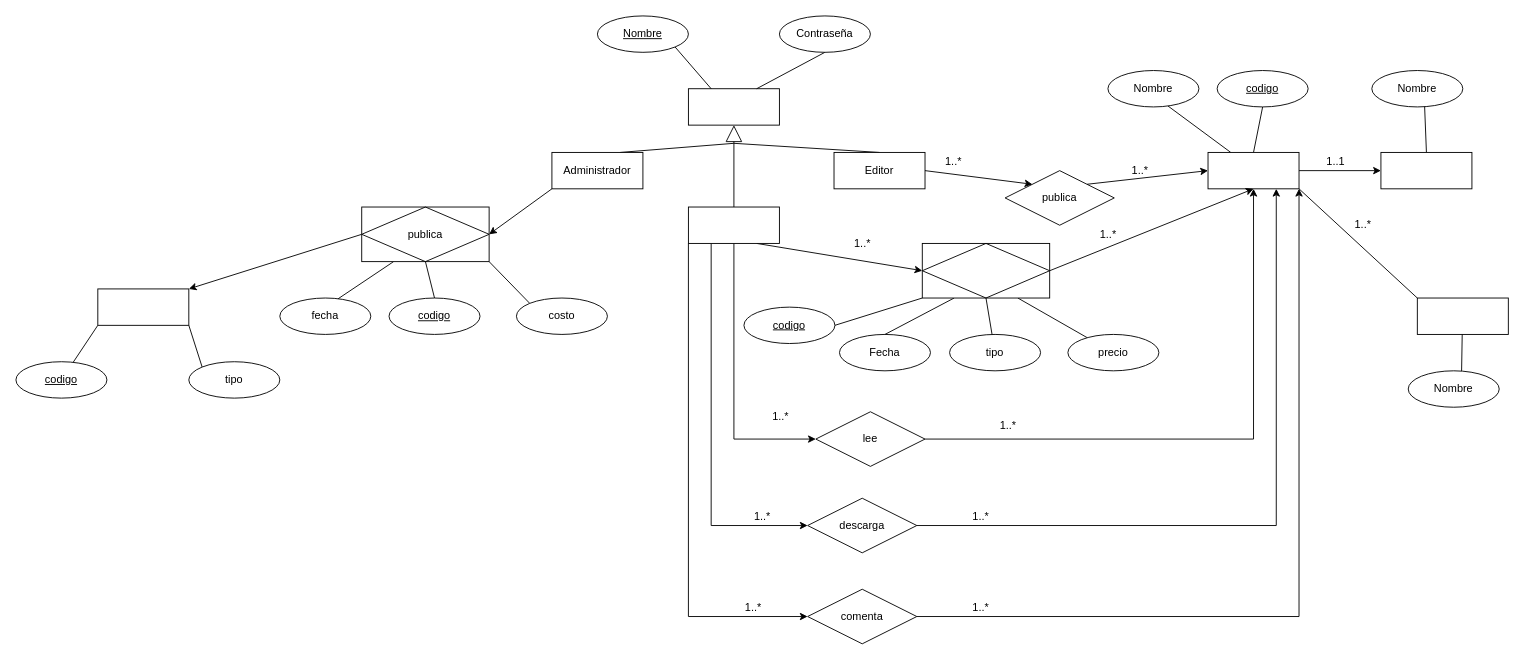
Some shapes in this 1524 by 660 pixel diagram are drawn without their labels. Here are the shapes that lost their labels. From the top down, the centre of each, then its label:
the point at 733,106: Usuario
the point at 1253,170: revista
the point at 1426,170: categoria
the point at 733,224: Suscriptor
the point at 985,270: suscribe
the point at 143,306: anuncio
the point at 1462,315: etiqueta
